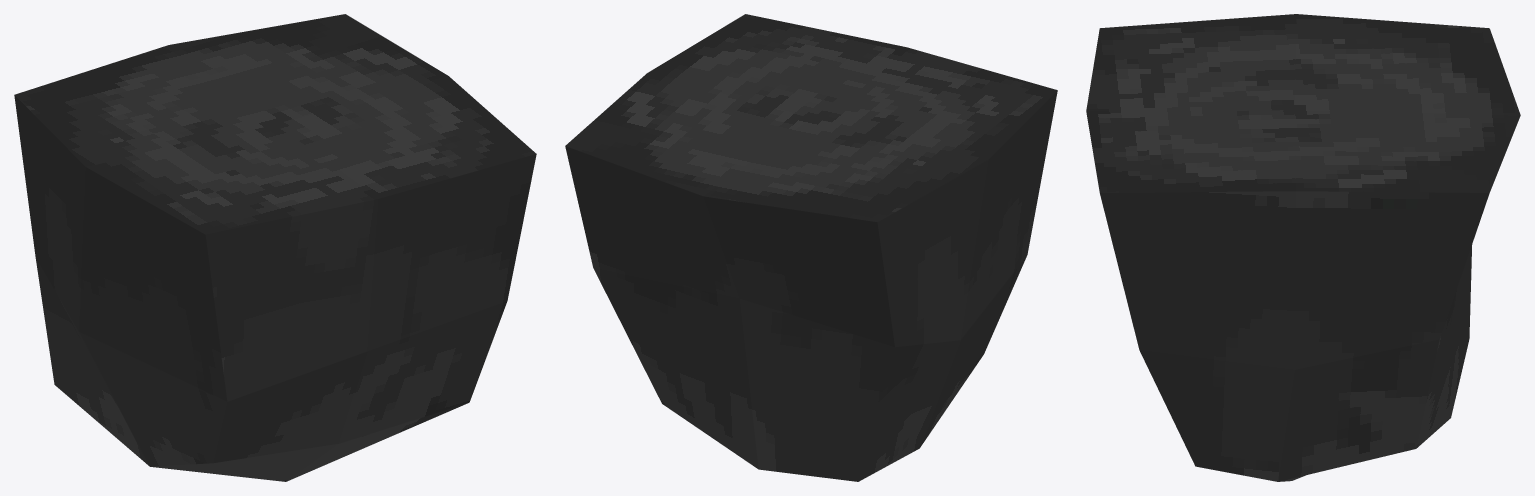
File: floatingPlatform.glb
The picture shows the model from 3 angles, left to right: view 1: azimuth 30°, elevation 25°; view 2: azimuth 150°, elevation 25°; view 3: azimuth 270°, elevation 25°; orthographic projection. The views are drawn at different scales.
Visible parts, largest first — view 1: plataform-col; view 2: plataform-col; view 3: plataform-col.
Part boxes in pixels (left/top/right/bottom): plataform-col: left=14, top=14, right=536, bottom=481; plataform-col: left=565, top=14, right=1057, bottom=481; plataform-col: left=1086, top=14, right=1520, bottom=481.
Size of the model in its own units: 4.82 by 4.64 by 4.91.
Materials: 1 (1 with a texture image).
